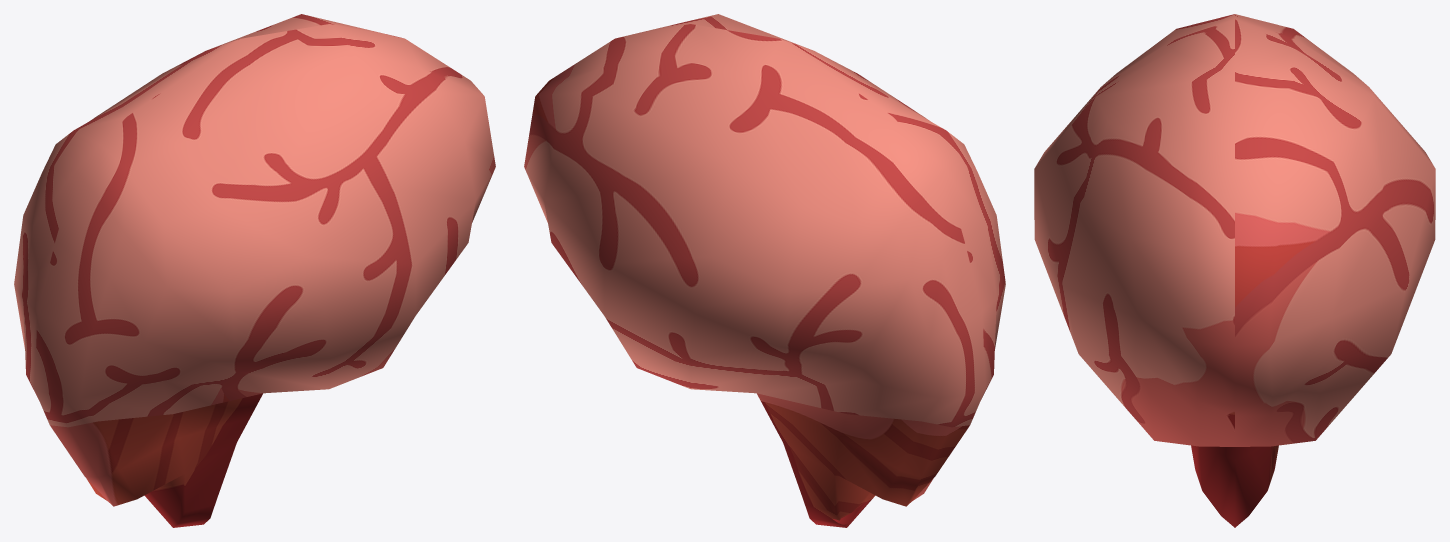
Rendered from aivot.fbx.
3 views of the same model, side by side, from view 1: azimuth 30°, elevation 25°; view 2: azimuth 150°, elevation 25°; view 3: azimuth 270°, elevation 25° (orthographic). The views are drawn at different scales.
Parts seen in each view (by area): view 1: aivot; view 2: aivot; view 3: aivot.
Part boxes in pixels (x1,y1,x2,y2): aivot: (14,14,495,527); aivot: (524,14,1005,527); aivot: (1034,14,1435,527).
Bounding box in the file's own units: 13.84 × 13.95 × 9.61.
